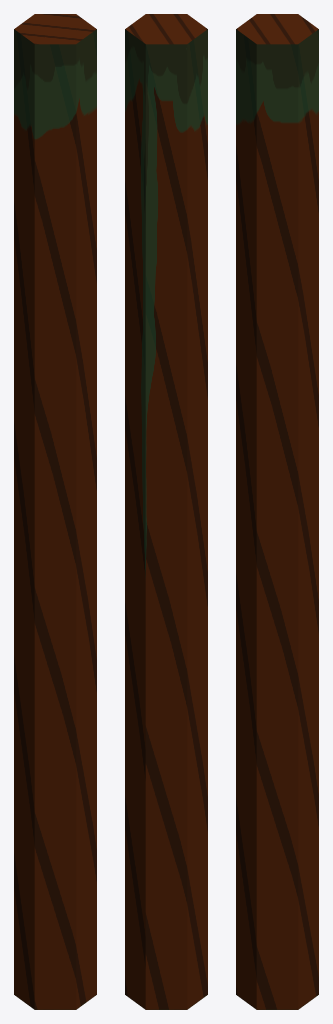
File: viga.obj
The picture shows the model from 3 angles, left to right: view 1: azimuth 30°, elevation 25°; view 2: azimuth 150°, elevation 25°; view 3: azimuth 330°, elevation 25°; orthographic projection.
Parts seen in each view (by area): view 1: Cylinder; view 2: Cylinder; view 3: Cylinder.
Part boxes in pixels (bbox=[...]): Cylinder: bbox=[14, 14, 96, 1009]; Cylinder: bbox=[125, 14, 207, 1009]; Cylinder: bbox=[236, 14, 318, 1009].
Size of the model in its own units: 1.1 by 16.41 by 1.27.
1 material, 1 textured.
